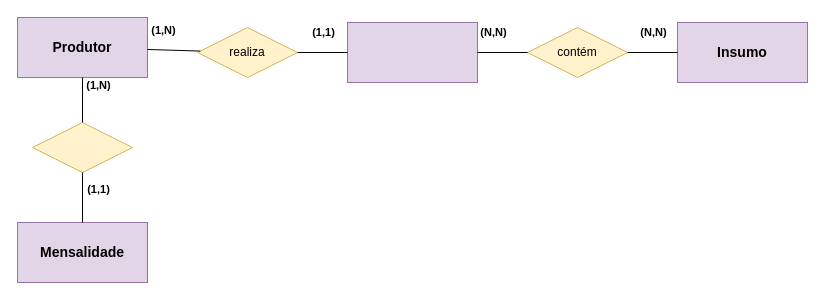
The diagram is 825 pixels wide and 300 high, and some of its shapes have lost their labels. Here are the shapes that lost their labels. From the top down, the centre of each, then its label:
(x=412, y=52): Compra
(x=82, y=147): paga
